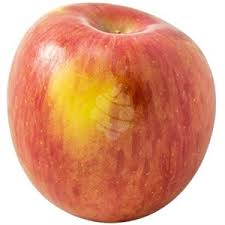apple: (6, 1, 217, 225)
